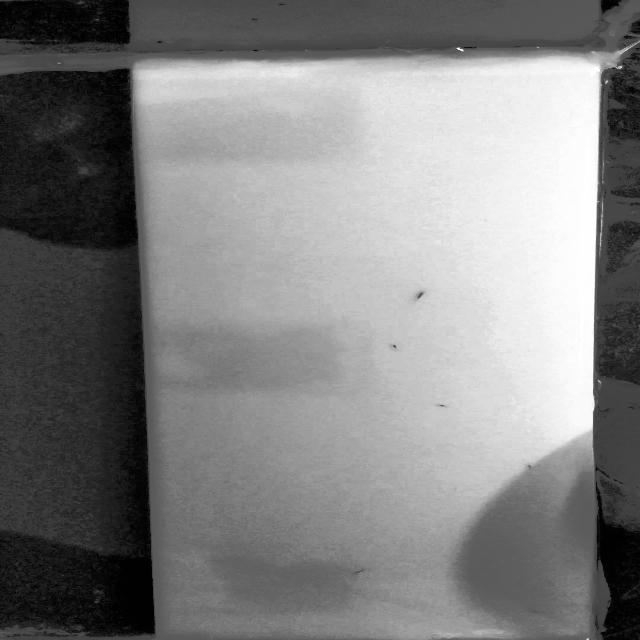shrimp: (409, 290, 427, 307), (433, 402, 456, 412), (383, 343, 402, 355), (529, 611, 561, 617), (522, 463, 541, 473), (354, 566, 379, 572)
